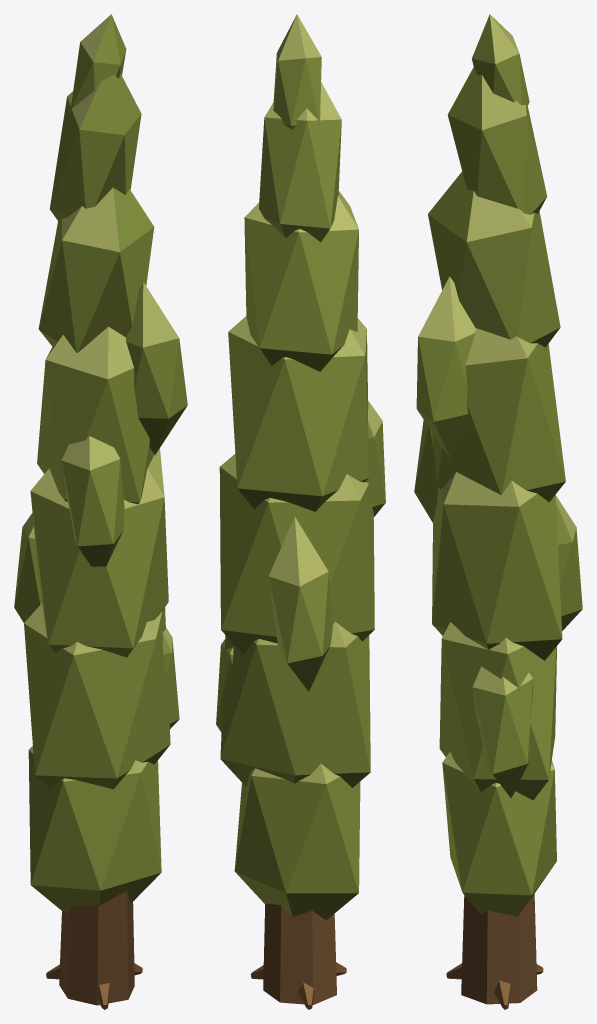
3 renders of one model, left to right at view 1: azimuth 30°, elevation 25°; view 2: azimuth 150°, elevation 25°; view 3: azimuth 270°, elevation 25°, orthographic.
Visible parts, largest first — view 1: WK_Tree_Cypress_GoldenColumnar_LOD0_High; view 2: WK_Tree_Cypress_GoldenColumnar_LOD0_High; view 3: WK_Tree_Cypress_GoldenColumnar_LOD0_High.
Part boxes in pixels (left/top/right/bottom): WK_Tree_Cypress_GoldenColumnar_LOD0_High: left=14, top=14, right=187, bottom=1009; WK_Tree_Cypress_GoldenColumnar_LOD0_High: left=216, top=14, right=385, bottom=1009; WK_Tree_Cypress_GoldenColumnar_LOD0_High: left=414, top=14, right=582, bottom=1009.
Size of the model in its own units: 1.24 by 7.97 by 1.24.
